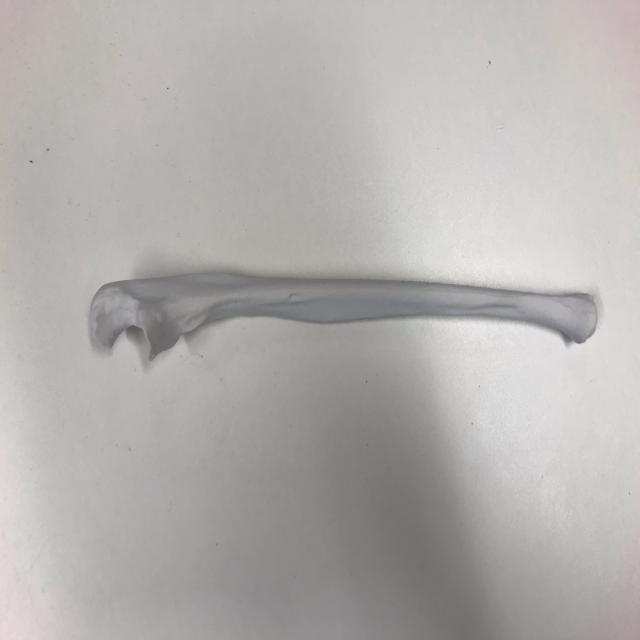bone: (84, 267, 603, 379)
